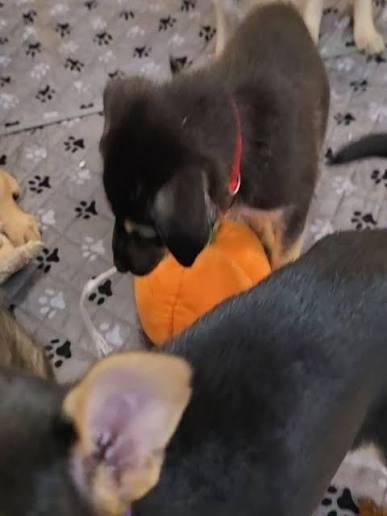puppy-dog: (1, 229, 387, 516), (99, 1, 331, 277)
